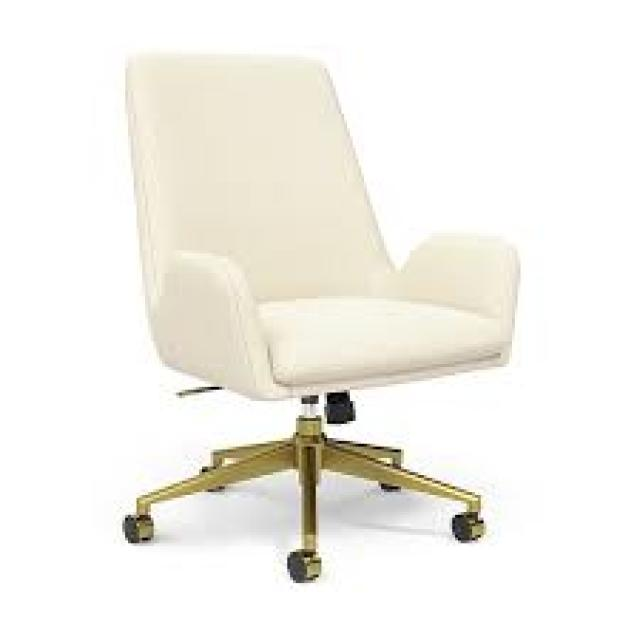chair: (24, 24, 555, 640)
